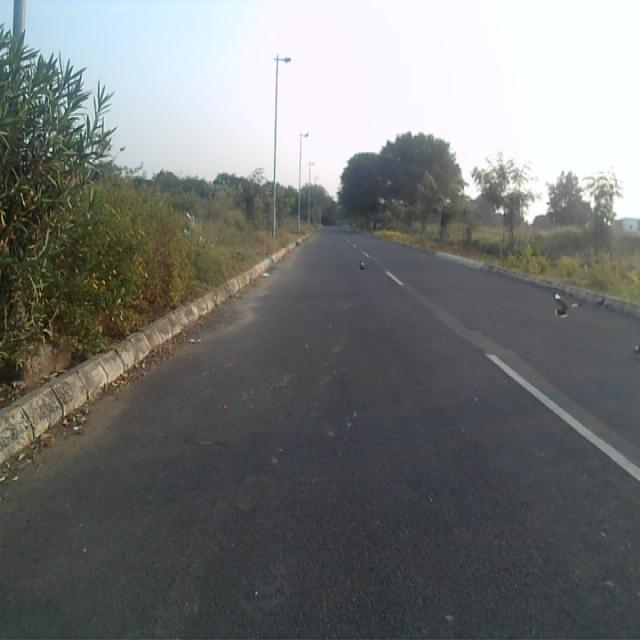lane: (0, 231, 640, 640)
